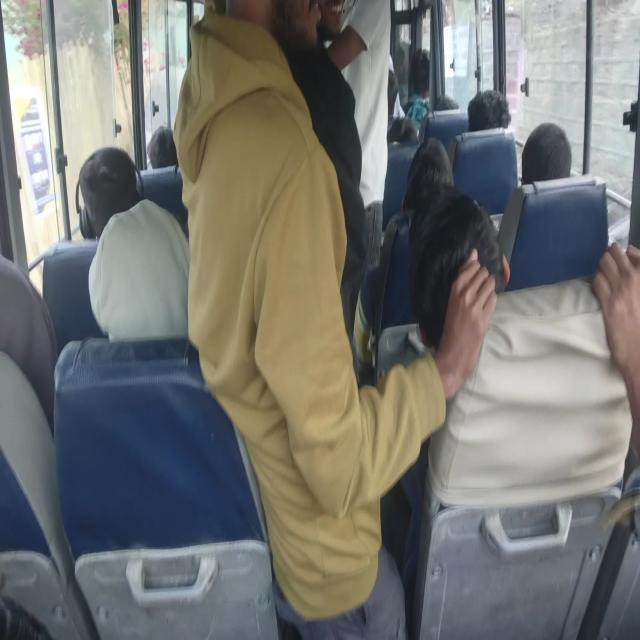person: (330, 0, 391, 203), (86, 219, 181, 331), (419, 196, 498, 321), (217, 0, 320, 78), (501, 96, 574, 192), (0, 279, 55, 379), (81, 154, 144, 234), (0, 574, 57, 640), (407, 126, 455, 201), (410, 51, 458, 102), (140, 125, 183, 177), (387, 105, 424, 158), (468, 87, 506, 132), (322, 0, 347, 47)
